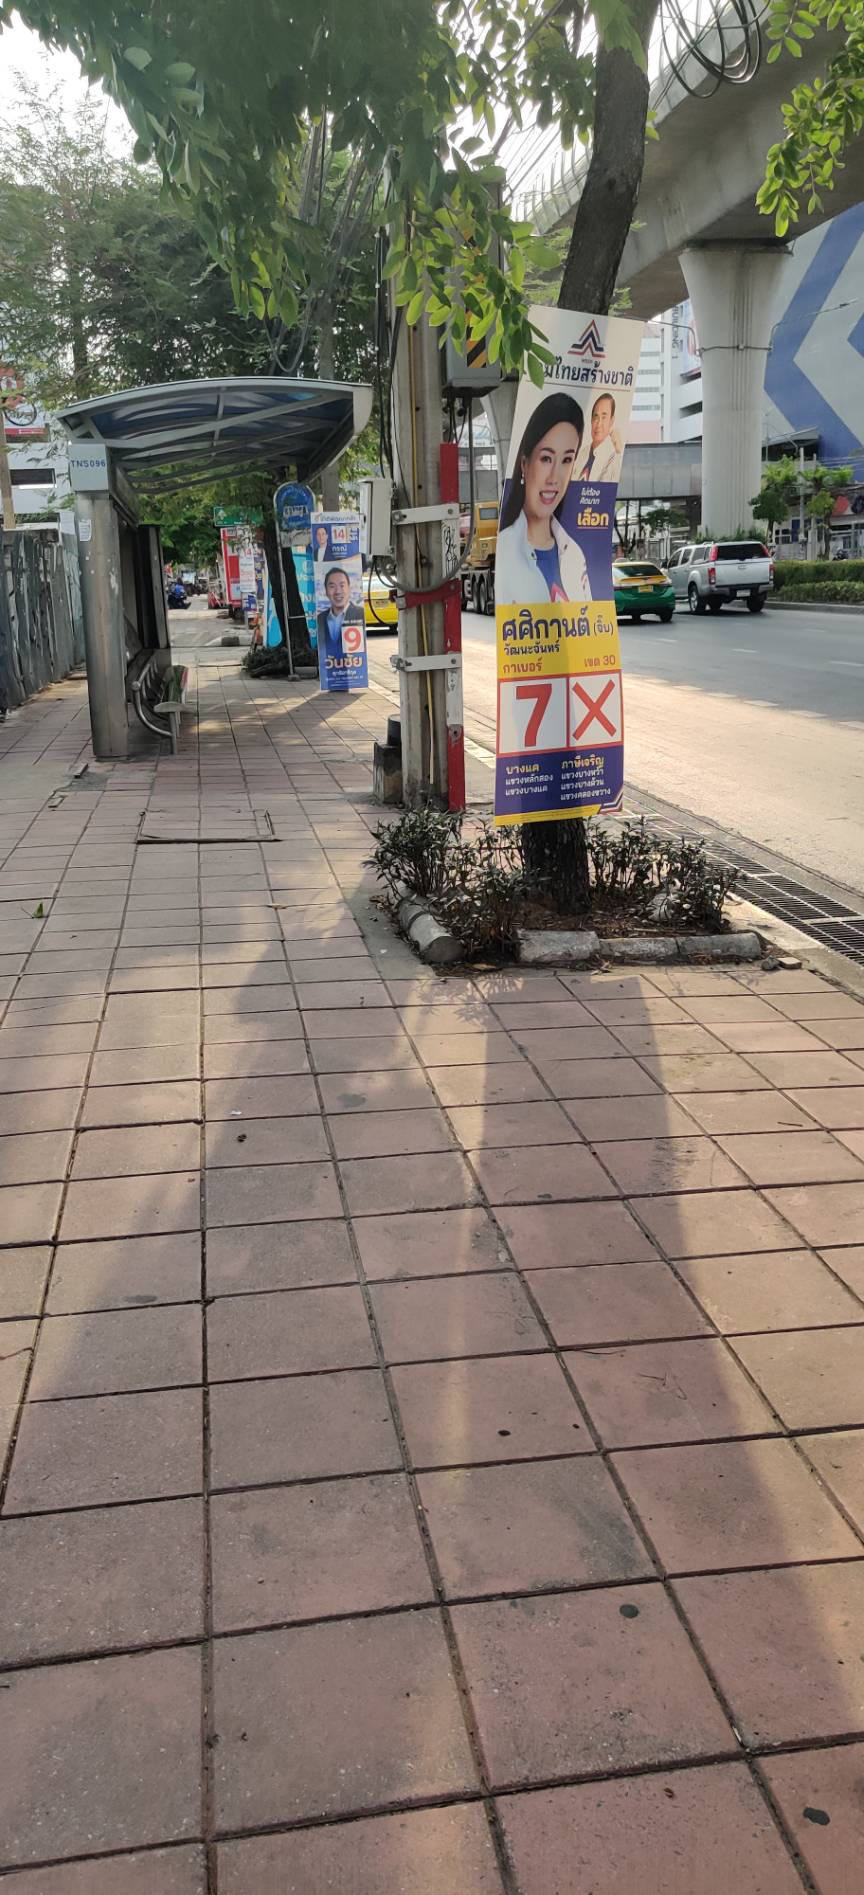Banner: (488, 315, 662, 810), (295, 512, 373, 690)
